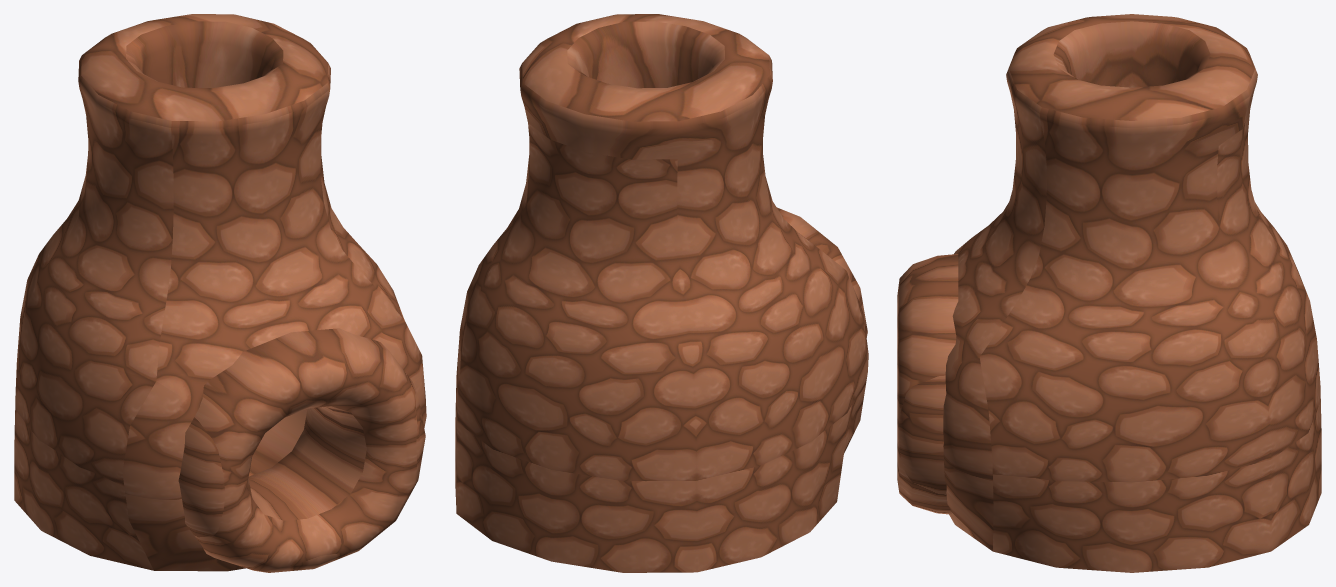
Rendered from Crude Furnace Hand.fbx.
3 views of the same model, side by side, from view 1: azimuth 30°, elevation 25°; view 2: azimuth 150°, elevation 25°; view 3: azimuth 270°, elevation 25° (orthographic).
Visible parts, largest first — view 1: Furnace; view 2: Furnace; view 3: Furnace.
Boxes of the visible parts, x1,y1,x2,y2 form: Furnace: (14, 14, 426, 572); Furnace: (455, 14, 868, 572); Furnace: (897, 14, 1321, 572).
Bounding box in the file's own units: 0.8542 × 1.09 × 0.944.
